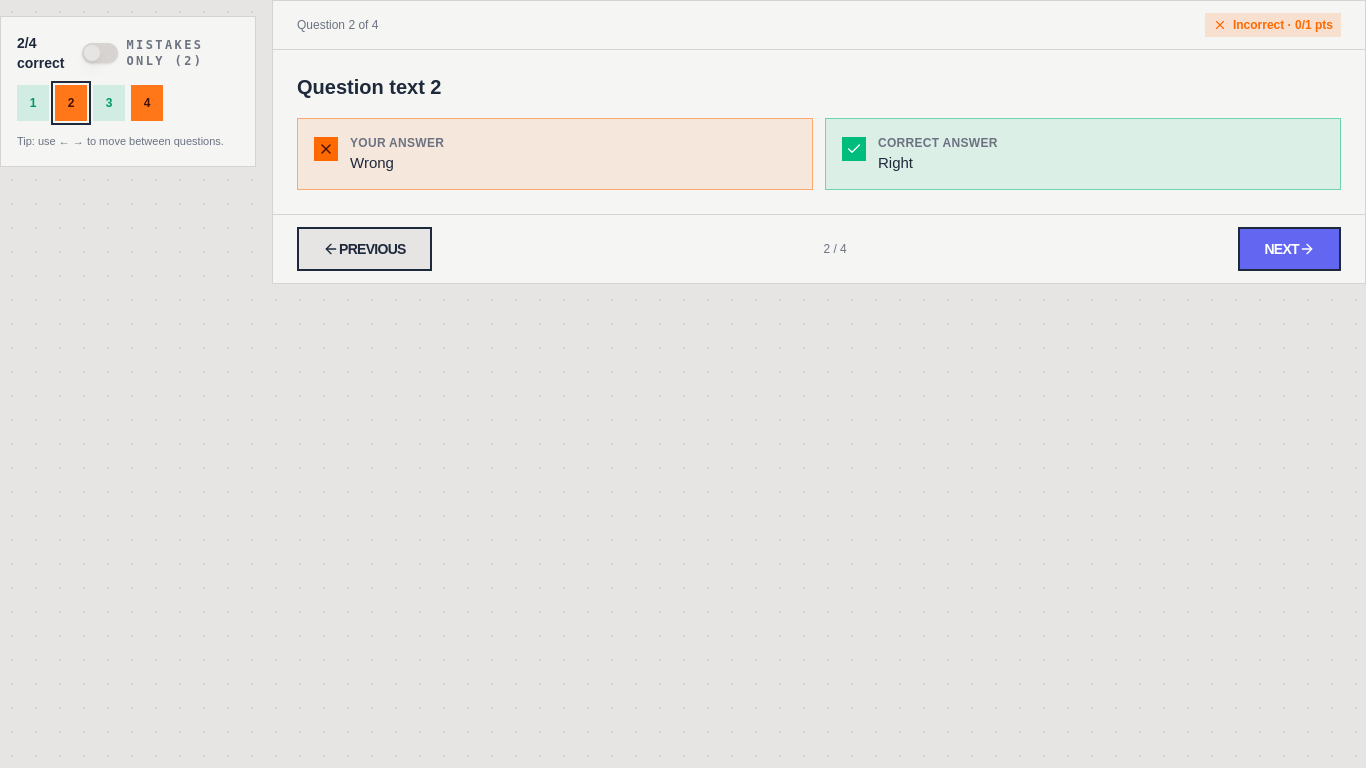
Test: QuizReview › mistakes only: skips correct questions and jumps from the navigator
Click the switch named "mistakes only" at [100, 53], box [82,43,118,63]
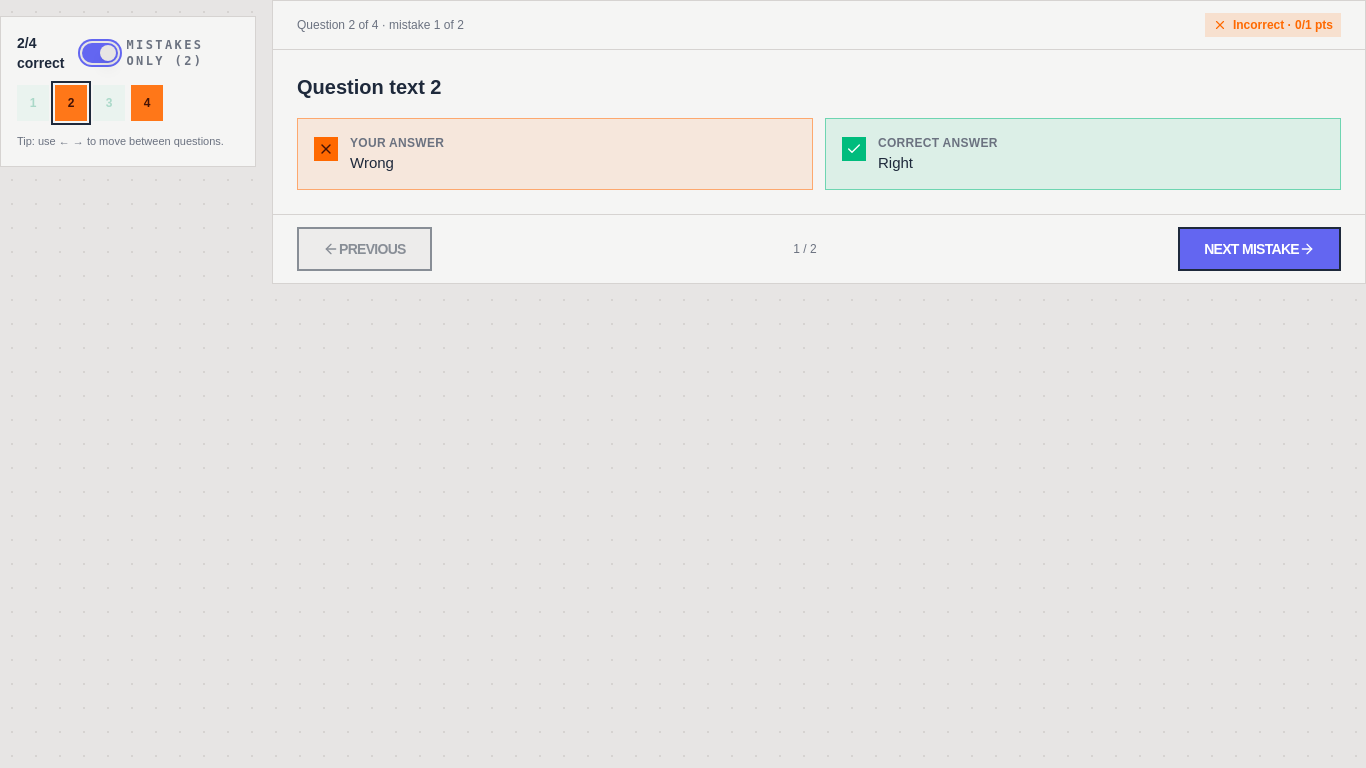
Click the button "Next mistake" at [1260, 249], box [1178,227,1341,271]
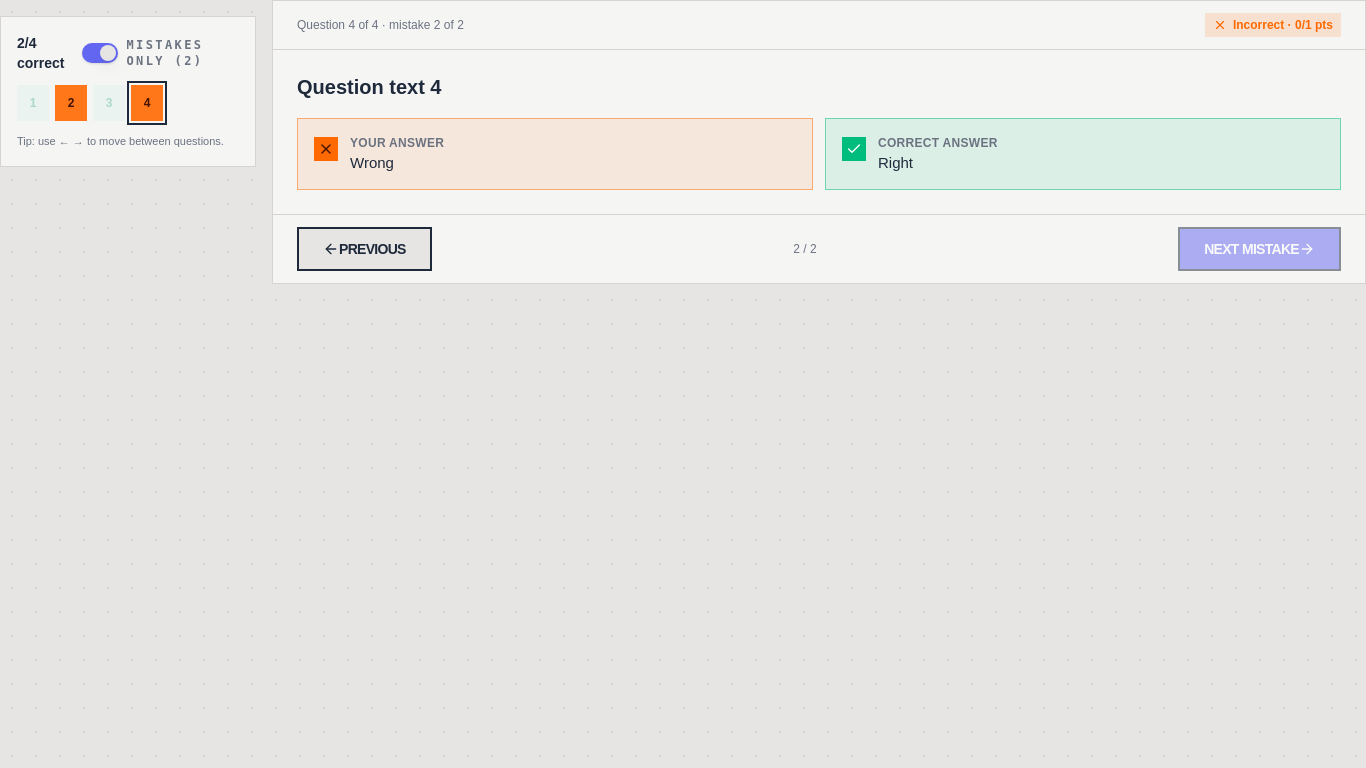
Now the heading "Question text 4" is shown, box [297,76,442,98]
Now the button "Next mistake" is disabled, box [1178,227,1341,271]
Picking a correct question from the navigator turns the filter off.
Click the button named "Question 1: correct" at [33, 103], box [17,85,49,121]
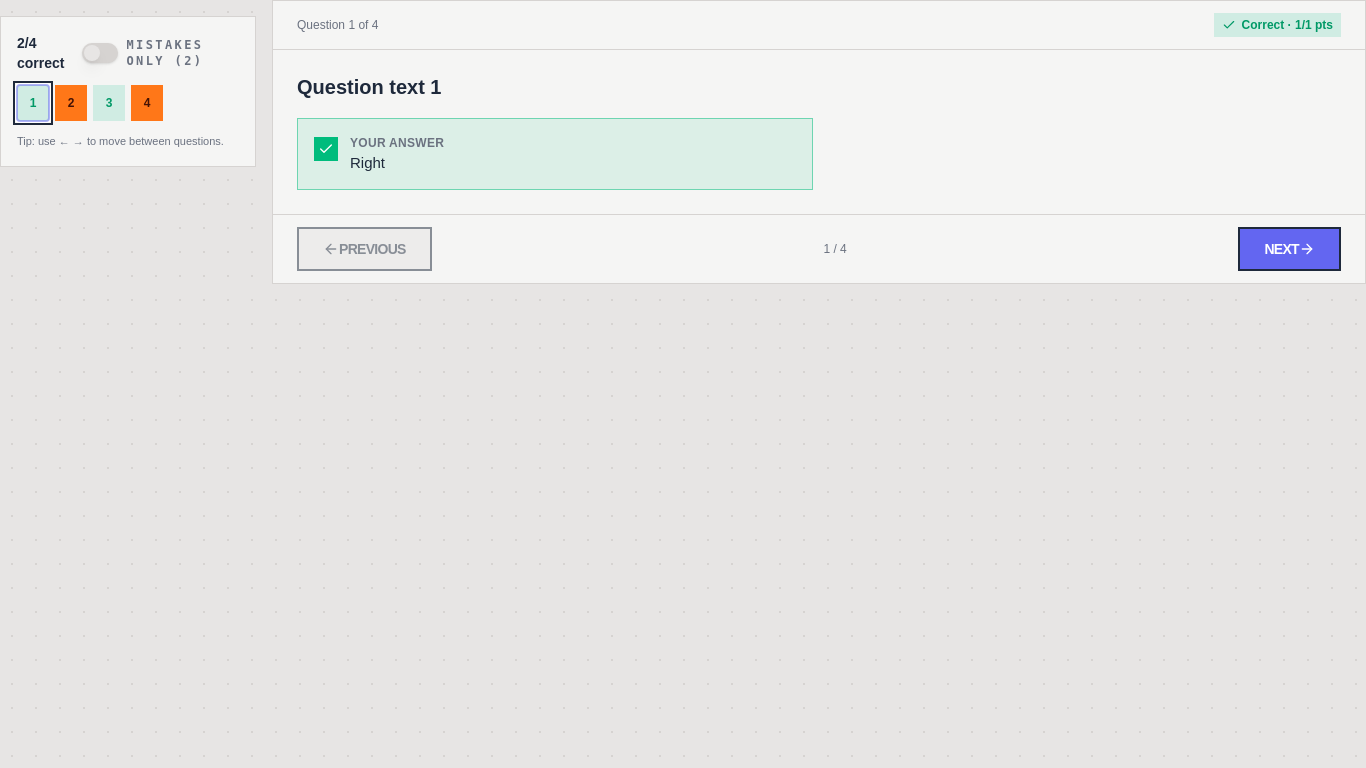
Now the switch named "mistakes only" is not checked, box [82,43,118,63]
Now the heading "Question text 1" is shown, box [297,76,442,98]
